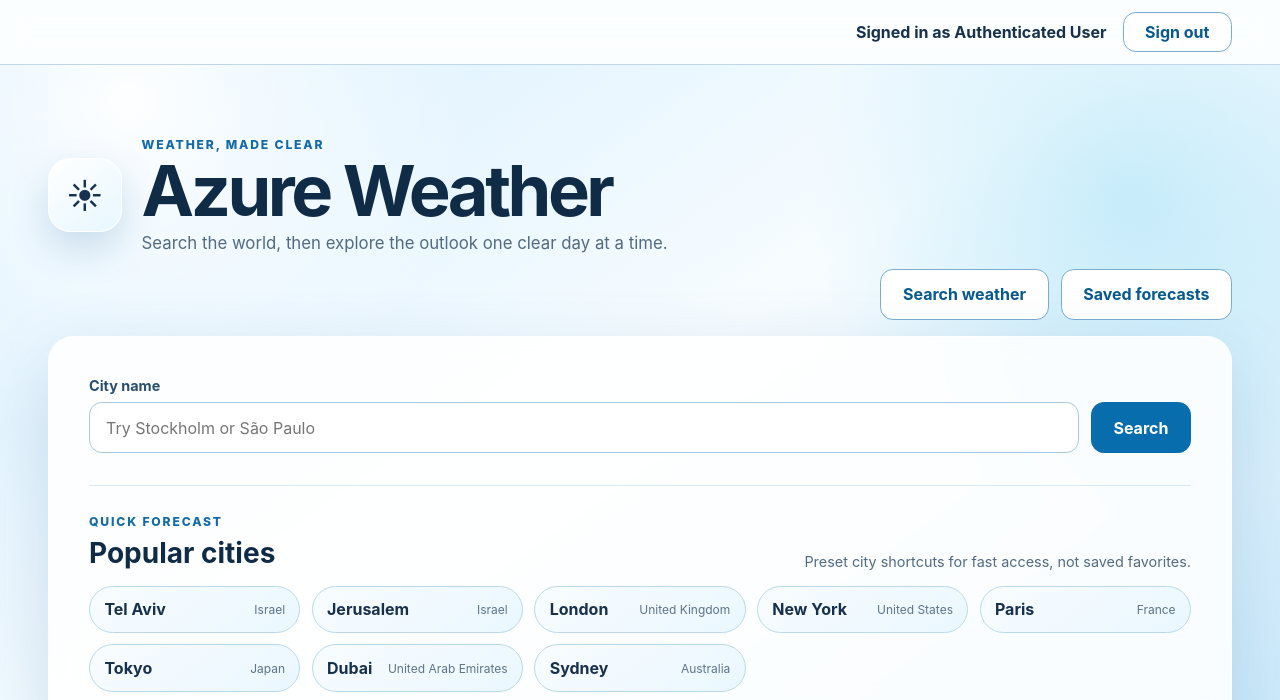
App › clears save feedback when the selected day changes
Check: the text "Signed in as Authenticated User" is shown, box [856,22,1106,42]
Type "London" into the search field labelled "City name" at (584,428), box [89,402,1079,453]
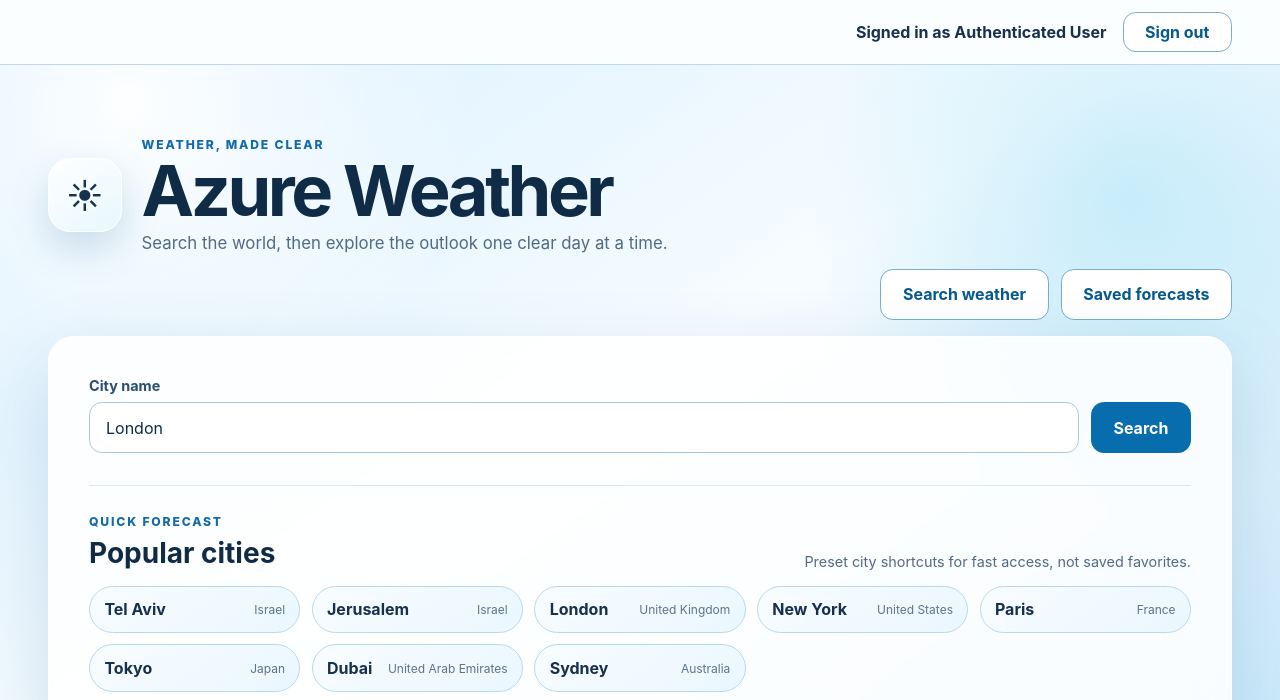
Click the button "Search" at (1141,428), box [1091,402,1191,453]
(page scrolled)
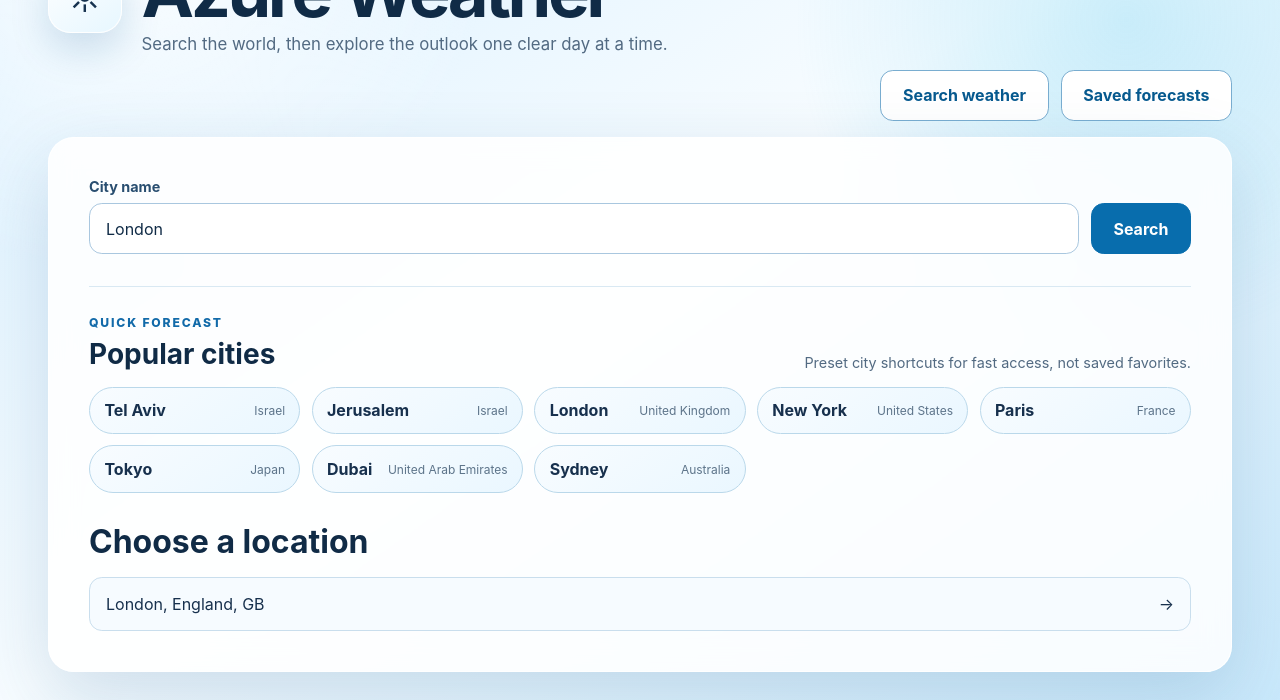
Click the button "London, England, GB →" at (185,604), box [89,577,1191,631]
(page scrolled)
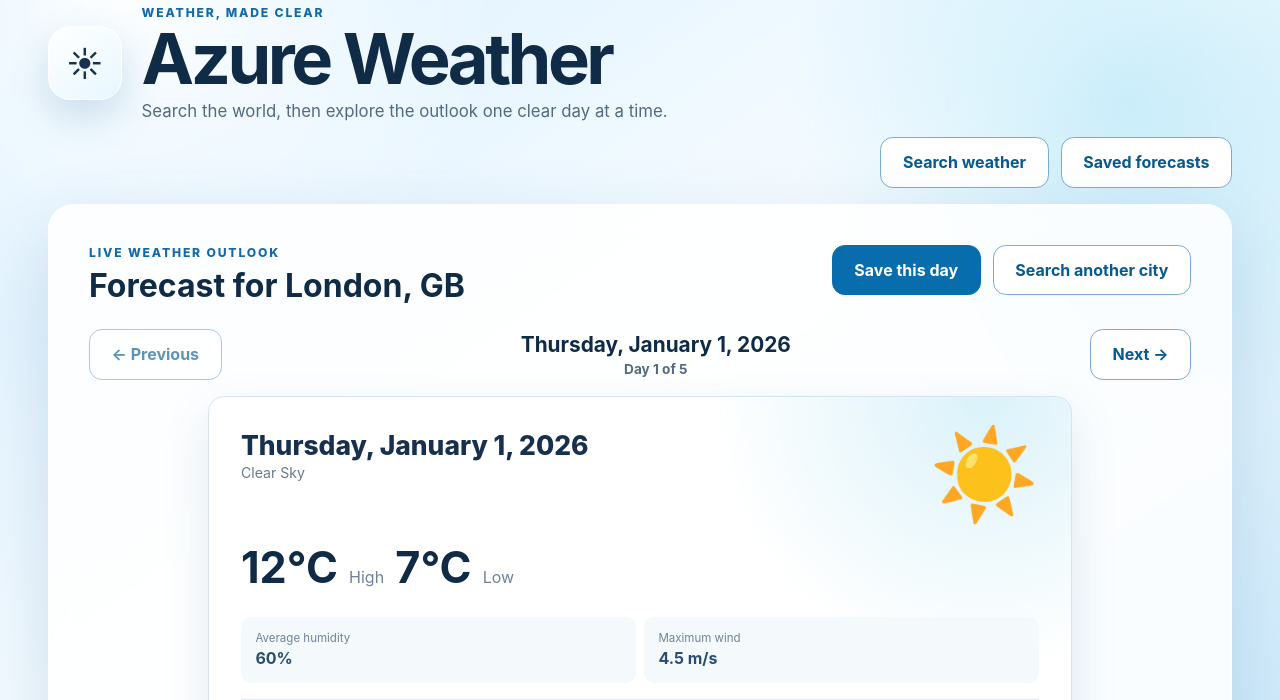
Click the button "Save this day" at (906,270), box [832,245,981,295]
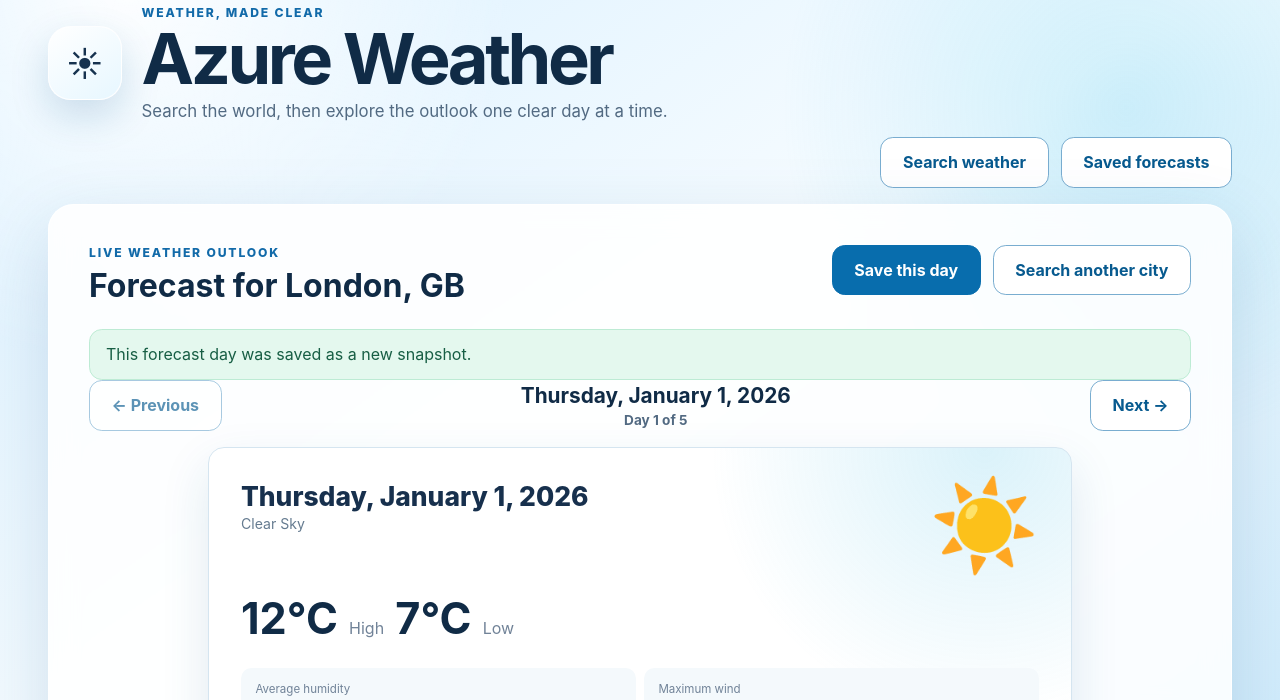
Check: the text "This forecast day was saved as a new snapshot." is shown, box [89,329,1191,380]
Click the button with aria-label "Next forecast day" at (1140,405), box [1090,380,1191,431]
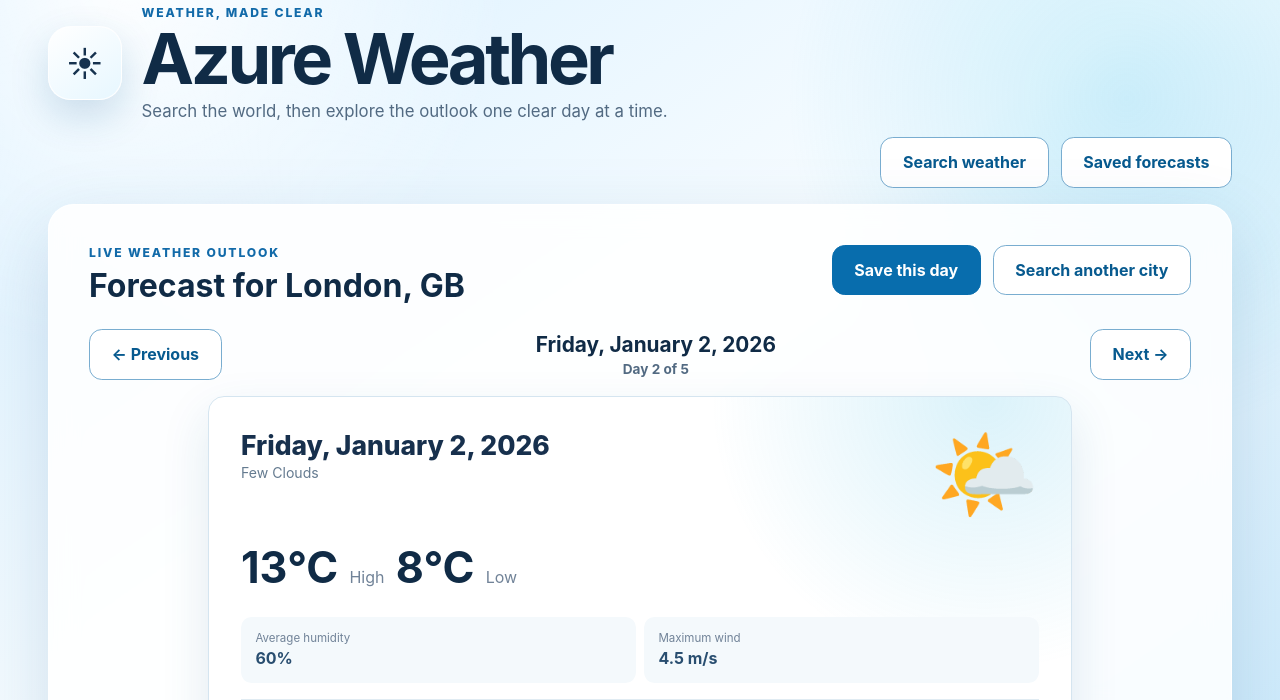
Check: the text "This forecast day was saved as a new snapshot." is gone
